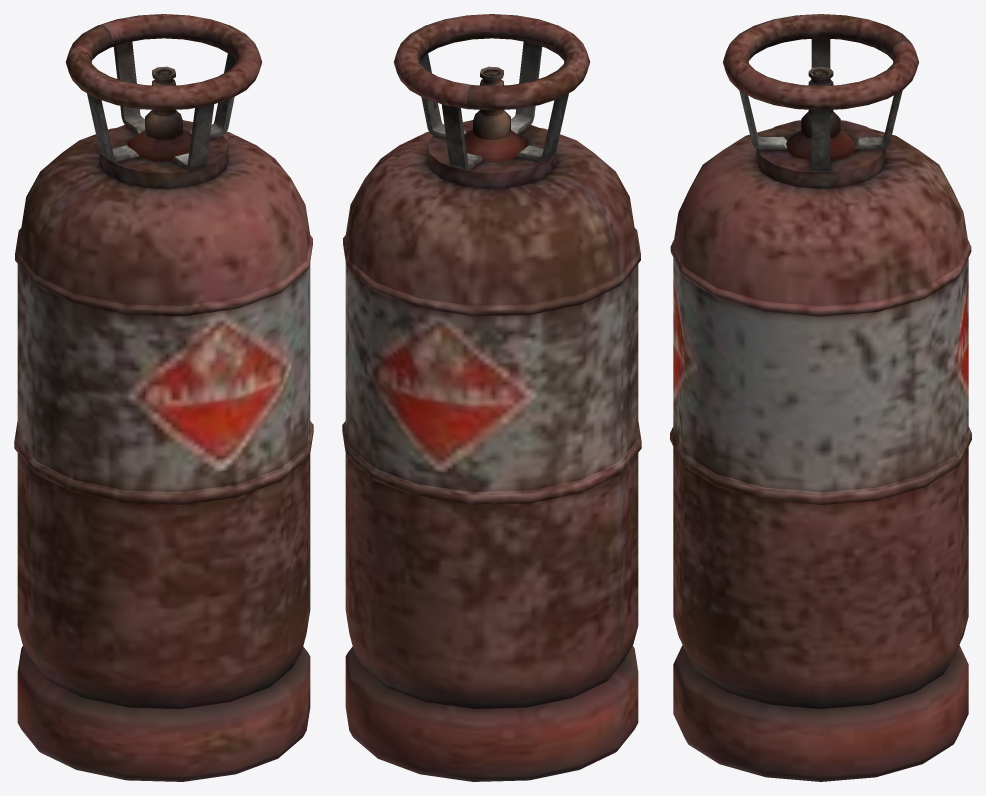
File: explosive_butane_can02.glb
3 renders of one model, left to right at view 1: azimuth 30°, elevation 25°; view 2: azimuth 150°, elevation 25°; view 3: azimuth 270°, elevation 25°, orthographic.
Visible parts, largest first — view 1: 0_gas_cannister02_col; view 2: 0_gas_cannister02_col; view 3: 0_gas_cannister02_col.
Part boxes in pixels (x1,y1,x2,y2): 0_gas_cannister02_col: (14, 14, 313, 781); 0_gas_cannister02_col: (342, 14, 641, 781); 0_gas_cannister02_col: (670, 14, 971, 781).
Bounding box in the file's own units: 0.4134 × 1.02 × 0.4134.
Materials: 1 (1 with a texture image).
